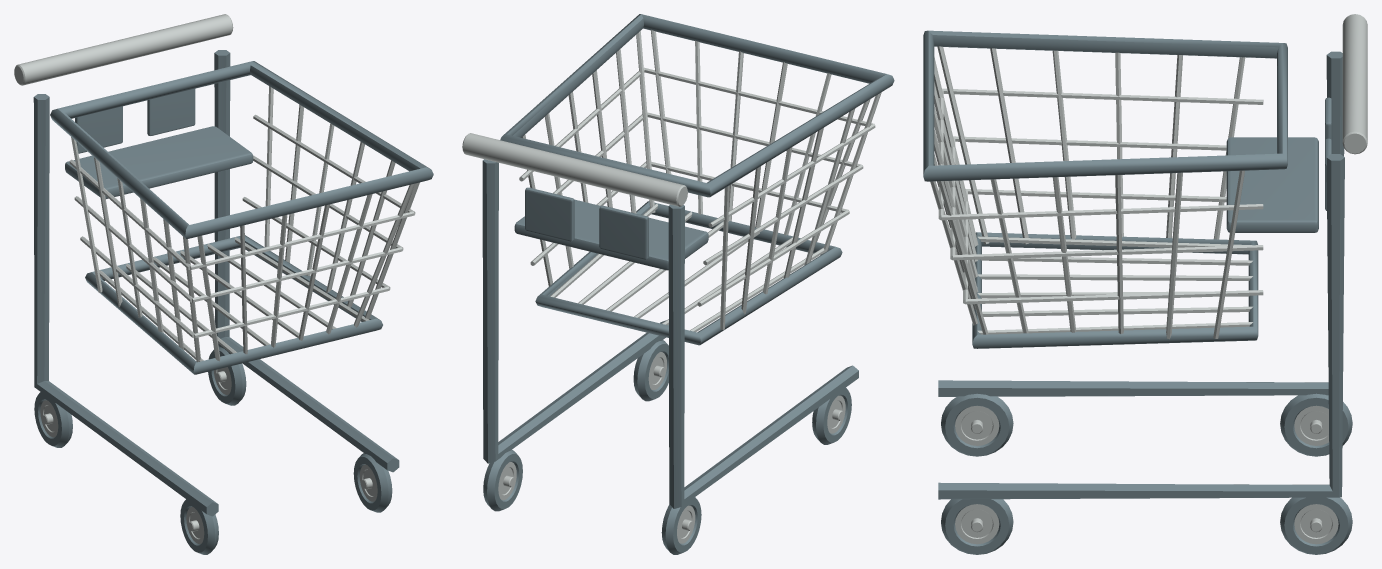
File: shopping-cart.glb
3 views of the same model, side by side, from view 1: azimuth 30°, elevation 25°; view 2: azimuth 150°, elevation 25°; view 3: azimuth 270°, elevation 25° (orthographic). The views are drawn at different scales.
Parts seen in each view (by area): view 1: basket_rim, base_frame, child_seat, base_frame.001, basket_floor, handle, seat_leg_gap.001, seat_leg_gap, caster_tire.003, basket_front_rail.002, caster_tire.001, caster_tire (+33 smaller); view 2: basket_rim, base_frame, base_frame.001, basket_floor, handle, child_seat, seat_leg_gap, seat_leg_gap.001, caster_tire.002, caster_tire, caster_tire.003, caster_tire.001 (+25 smaller); view 3: basket_rim, base_frame.001, basket_floor, child_seat, base_frame, handle, caster_tire.001, caster_tire.002, caster_tire.003, caster_tire, basket_side_rail.005, basket_side_rail.002 (+35 smaller).
Part boxes in pixels (x1,y1,x2,y2): basket_rim: (50,61,433,238); base_frame: (33,94,218,516); child_seat: (65,126,253,198); base_frame.001: (214,50,399,472); basket_floor: (85,235,382,374); handle: (14,14,233,85); seat_leg_gap.001: (147,89,195,135); seat_leg_gap: (75,106,122,153); caster_tire.003: (353,453,392,512); basket_front_rail.002: (190,211,414,269); caster_tire.001: (180,499,218,554); caster_tire: (34,392,72,447); basket_rim: (500,14,894,197); base_frame: (668,204,858,508); base_frame.001: (482,159,668,463); basket_floor: (535,201,842,345); handle: (462,133,687,206); child_seat: (514,199,708,270); seat_leg_gap: (599,205,648,259); seat_leg_gap.001: (525,187,574,241); caster_tire.002: (483,450,522,511); caster_tire: (661,497,701,554); caster_tire.003: (633,340,668,401); caster_tire.001: (812,388,851,444); basket_rim: (923,30,1287,181); base_frame.001: (938,154,1344,499); basket_floor: (972,232,1258,348); child_seat: (1226,137,1318,232); base_frame: (938,51,1344,396); handle: (1342,14,1367,154); caster_tire.001: (941,393,1013,456); caster_tire.002: (1280,497,1352,554); caster_tire.003: (941,499,1013,554); caster_tire: (1280,393,1352,456); basket_side_rail.005: (941,204,1263,220); basket_side_rail.002: (942,88,1263,104).
Size of the model in its own units: 0.6878 by 0.986 by 0.9174.
